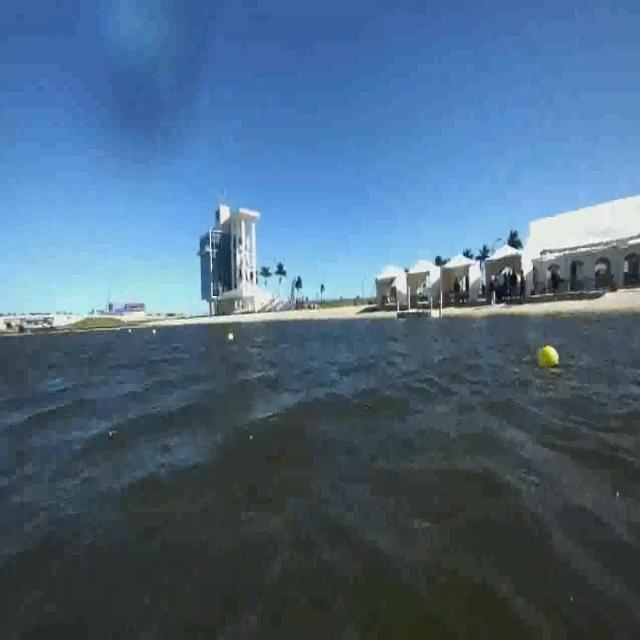yellow-buoy: (540, 346, 561, 368)
